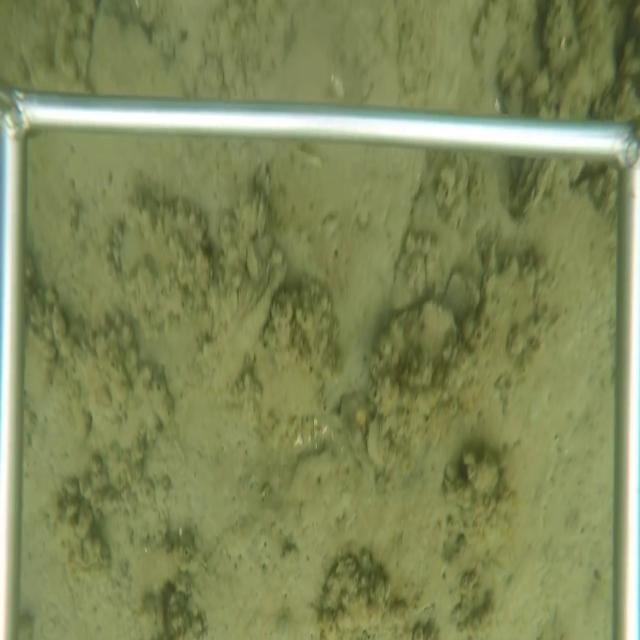Oyster-Closed: (363, 409, 389, 475)
Oyster-Indeterminate: (210, 255, 288, 393), (83, 13, 189, 99)
Oyster-Open: (507, 158, 545, 215)
